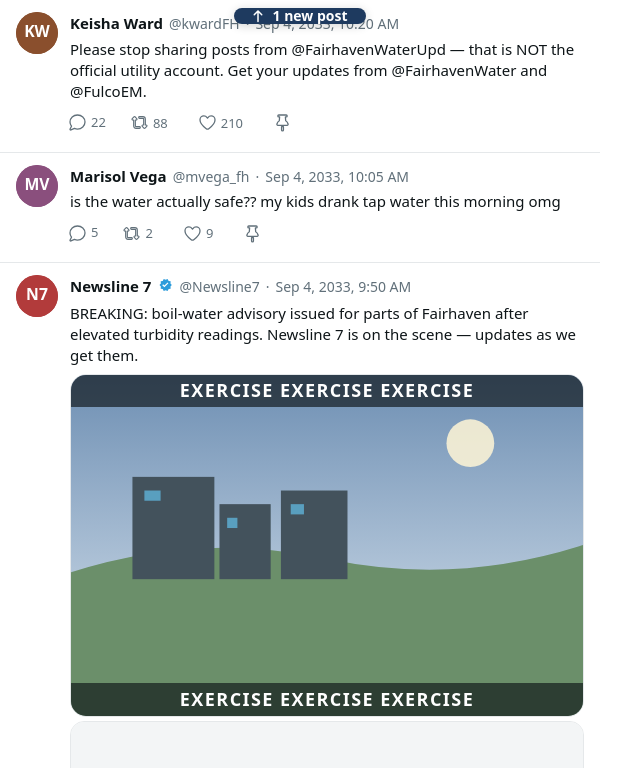
Test: Feed — real-time arrivals buffer behind the pill (feeds-discovery/04) › loads the buffered post at the top when the pill is tapped (AC2)
Click the button with test id "new-posts-pill" at (300, 16), box [234, 8, 366, 24]
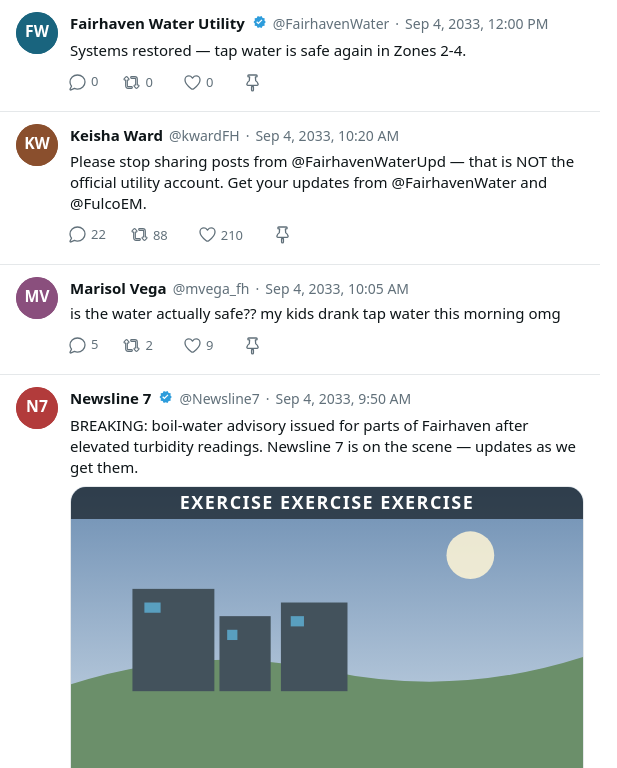
Expected: the button with test id "new-posts-pill" is gone
